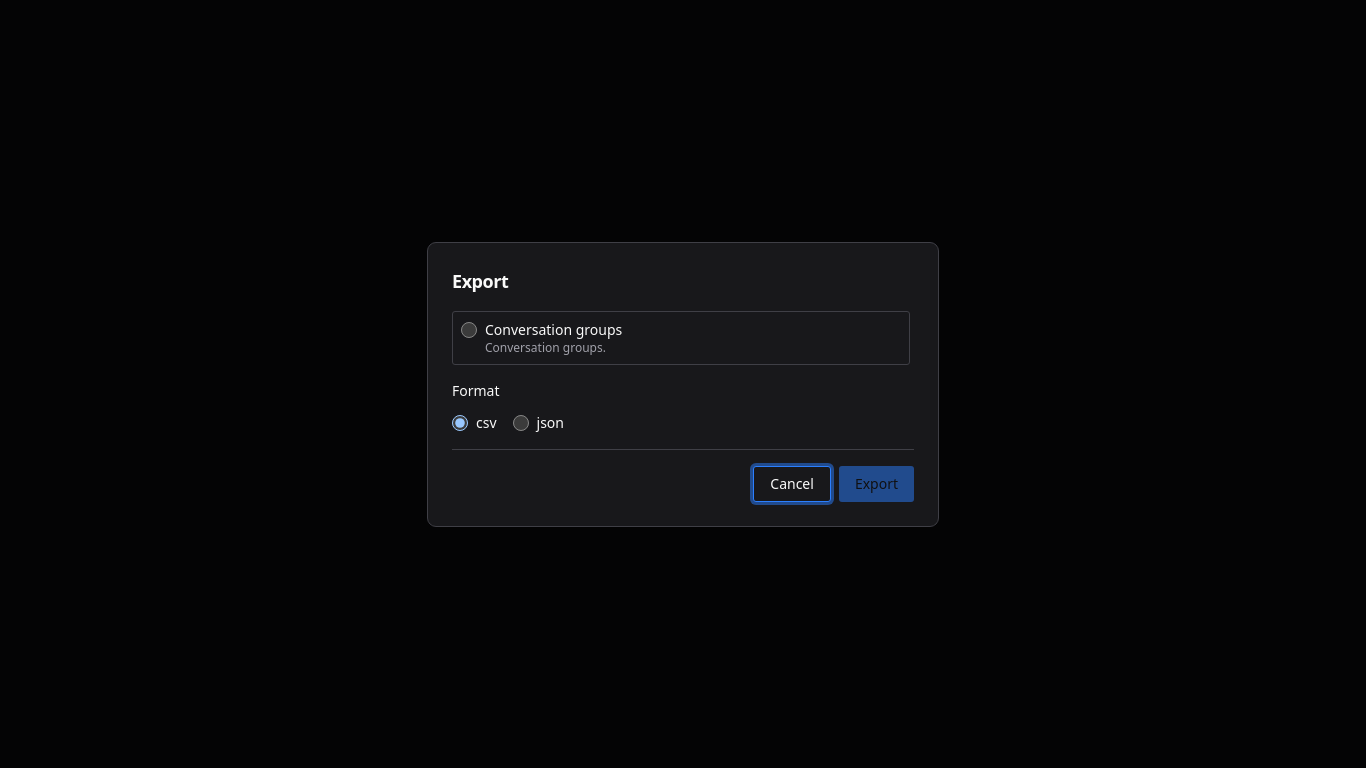
Test: ExportDialog › offers the Red-teamer filter for the conversation-groups export (catalog key matches USER_TEMPLATES)
The width and height of the screenshot is (1366, 768).
Click the radio button labelled "Conversation groups Conversation groups." at (469, 330), box left=461, top=322, right=477, bottom=338
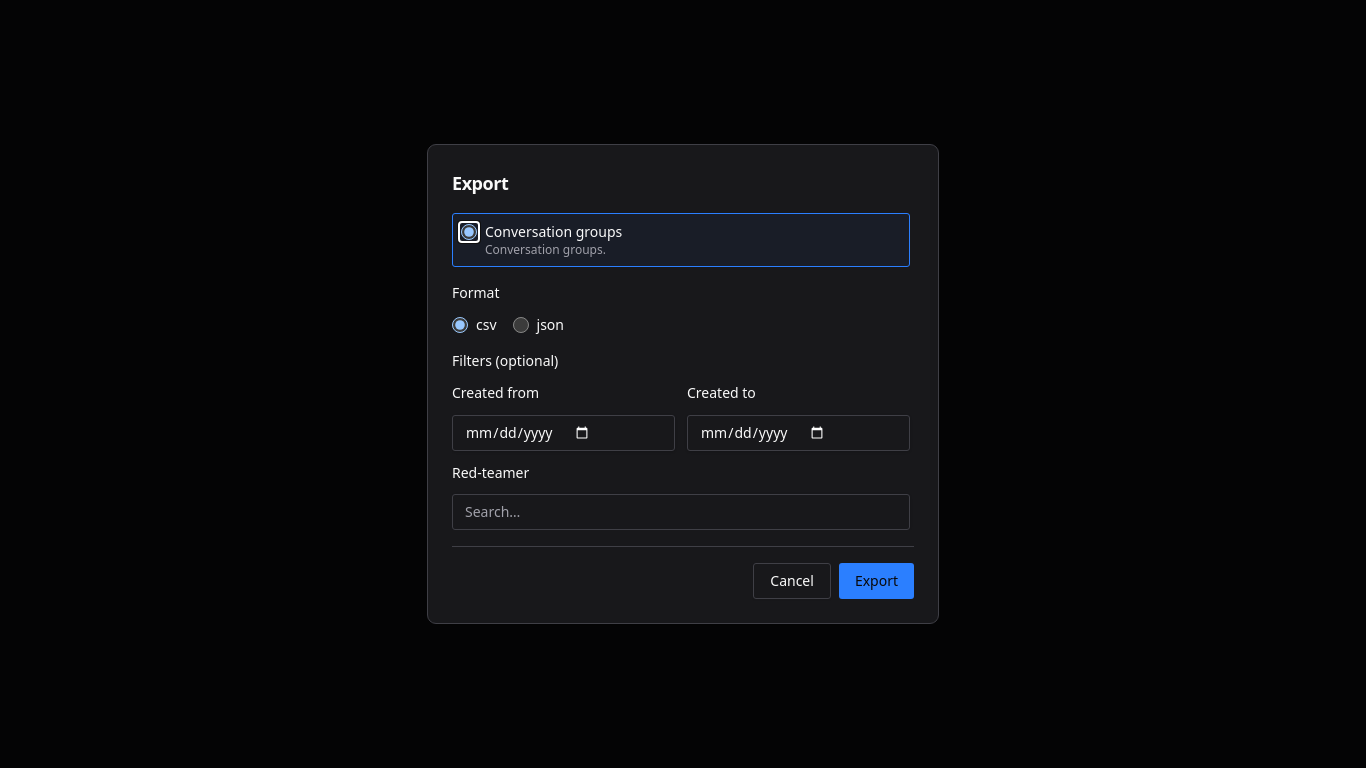
Expected: the dropdown labelled "Red-teamer" is shown, left=452, top=494, right=910, bottom=530
